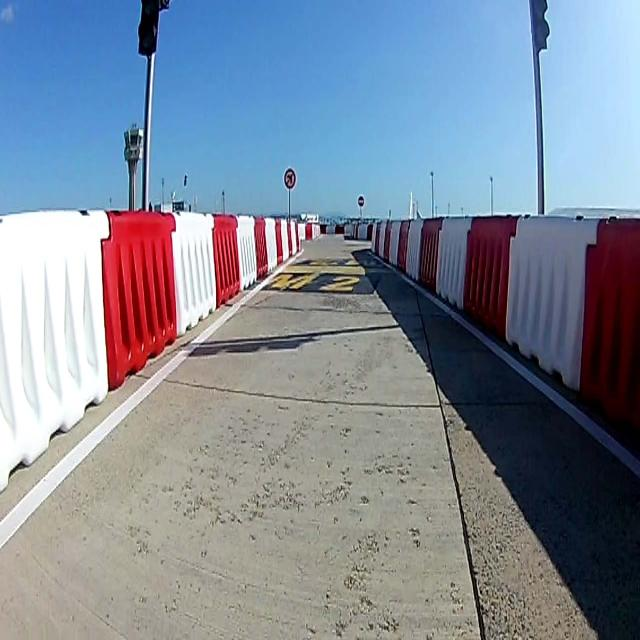soladonulmez: (285, 169, 296, 188)
